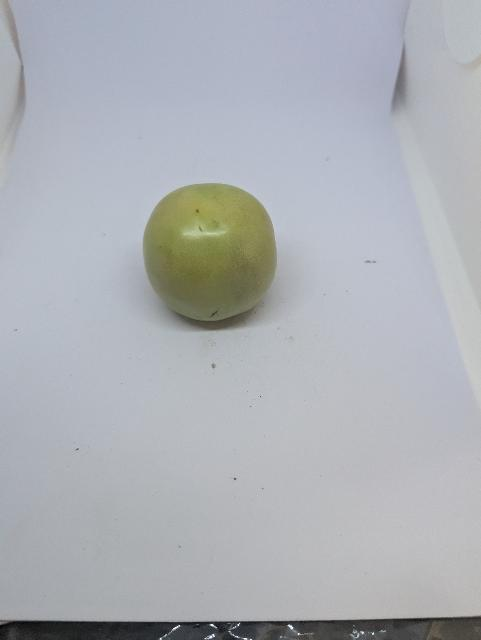green: (141, 180, 279, 326)
